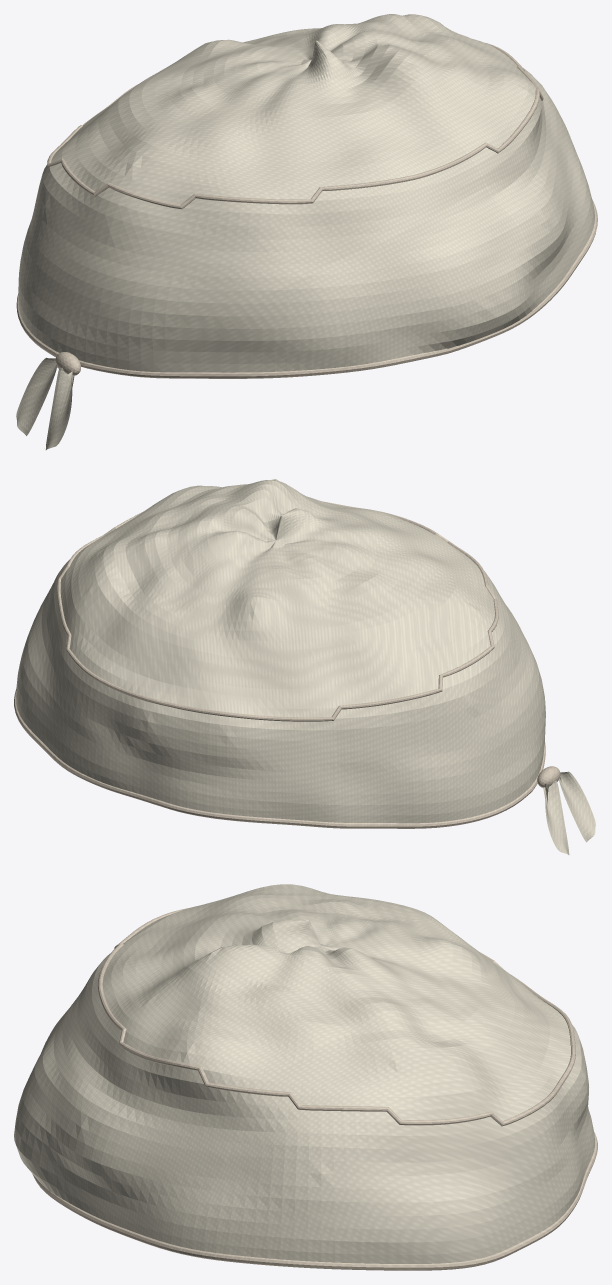
Rendered from side_muledriver_headcloth.glb.
The picture shows the model from 3 angles, top to bottom: view 1: azimuth 30°, elevation 25°; view 2: azimuth 150°, elevation 25°; view 3: azimuth 270°, elevation 25°; orthographic projection. The views are drawn at different scales.
Visible parts, largest first — view 1: wash_dyed_linen, sewn_fold; view 2: wash_dyed_linen, sewn_fold; view 3: wash_dyed_linen, sewn_fold.
Part boxes in pixels (x1,y1,x2,y2): wash_dyed_linen: [16, 14, 594, 449]; sewn_fold: [16, 43, 597, 378]; wash_dyed_linen: [16, 479, 595, 854]; sewn_fold: [14, 501, 560, 828]; wash_dyed_linen: [14, 884, 594, 1263]; sewn_fold: [32, 908, 597, 1270].
Bounding box in the file's own units: 17.99 × 9.49 × 14.99.
Materials: 3 (3 with a texture image).
